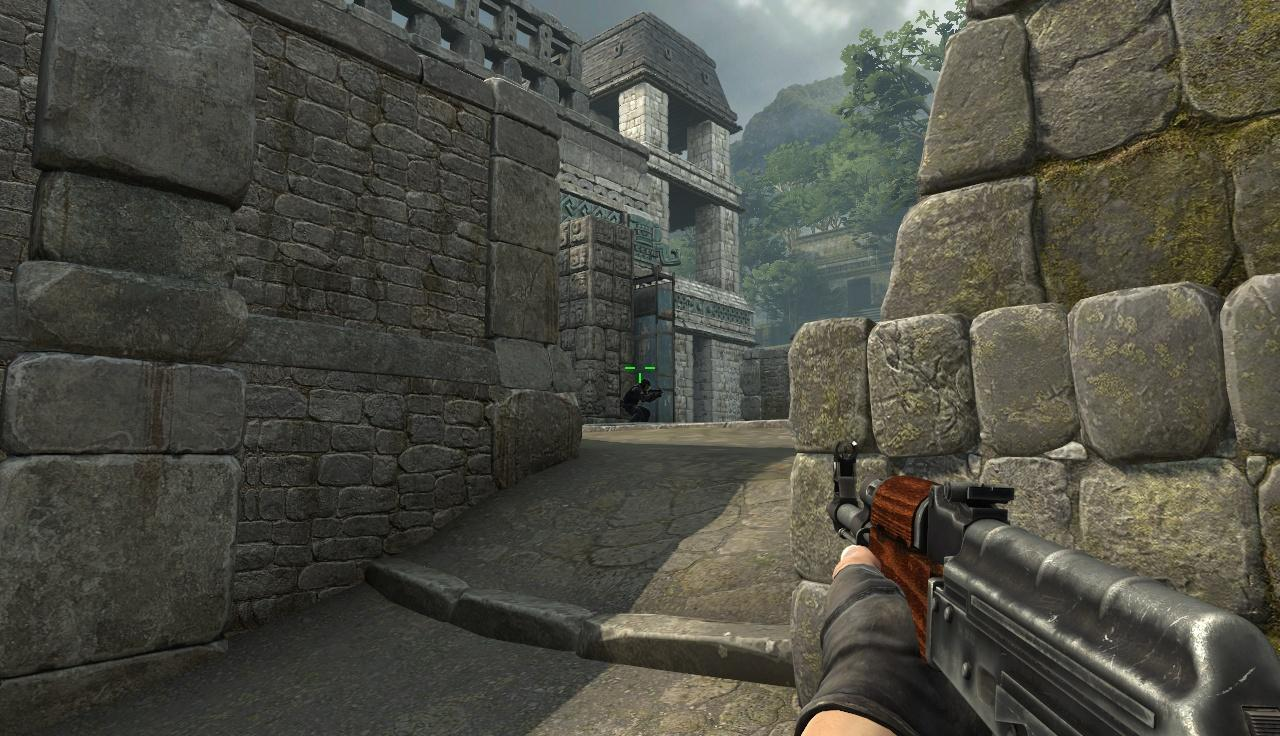ct: (623, 377, 650, 423)
cthead: (640, 379, 650, 389)
rifle: (835, 436, 1280, 731)
